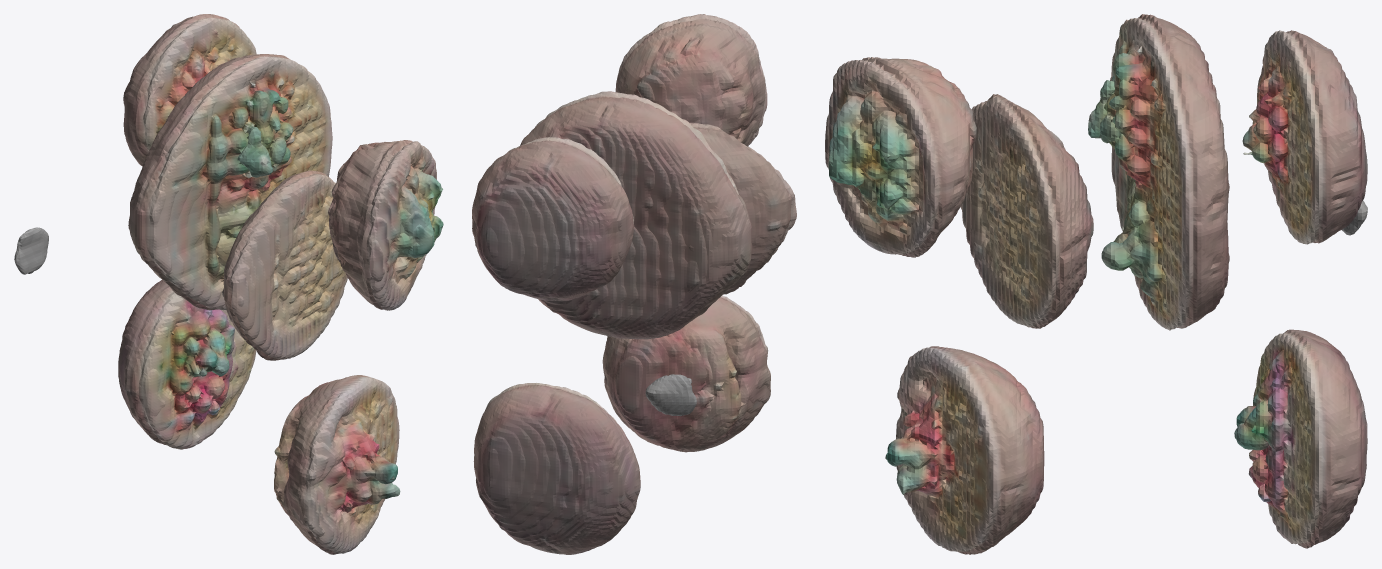
The picture shows the model from 3 angles, left to right: view 1: azimuth 30°, elevation 25°; view 2: azimuth 150°, elevation 25°; view 3: azimuth 270°, elevation 25°; orthographic projection. The views are drawn at different scales.
Visible parts, largest first — view 1: world; view 2: world; view 3: world.
Part boxes in pixels (x1=…): world: x1=14, y1=14, x2=443, y2=554; world: x1=472, y1=14, x2=796, y2=554; world: x1=825, y1=14, x2=1367, y2=554.
Bounding box in the file's own units: 0.6096 × 0.9847 × 0.9446.
